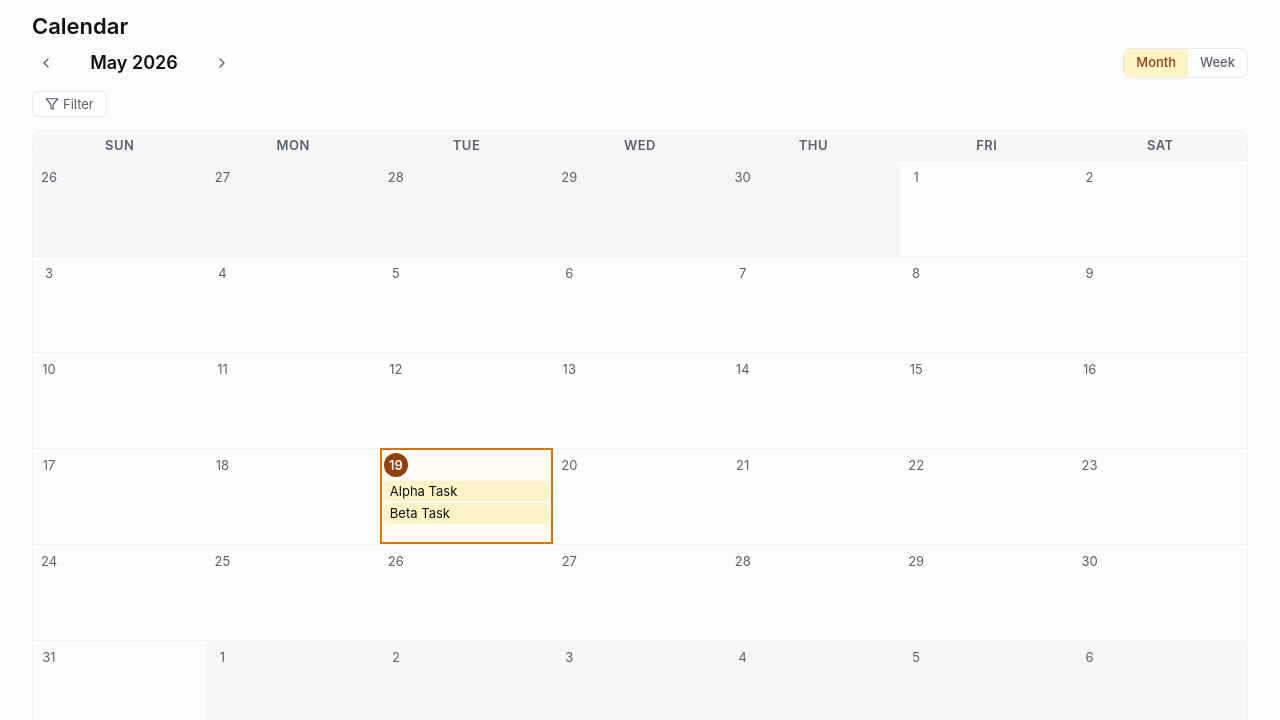
Test: CalendarMonthView — filter chips › filter menu has "Filter by project…" option (now present after implementation fix)
The image size is (1280, 720).
Click the button "Filter" at [69, 104], box [32,90,107,116]
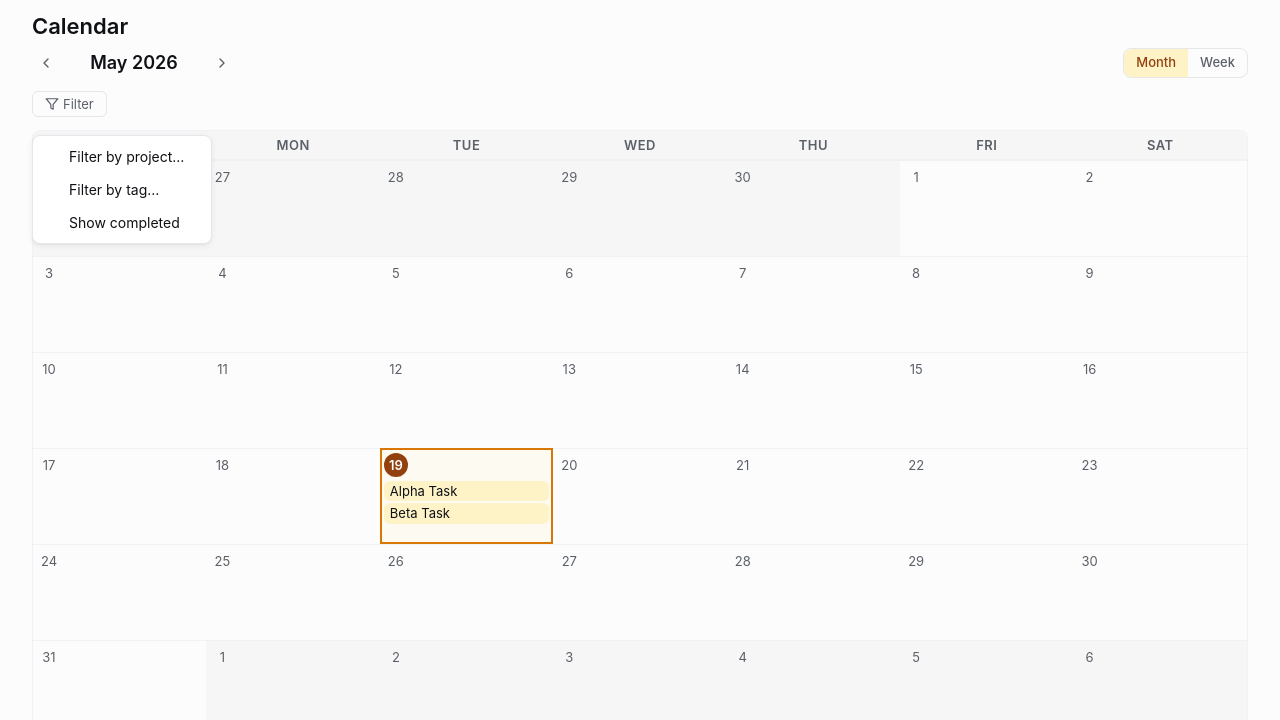
Result: the menu item "Filter by project…" is shown at [33,140,211,172]
